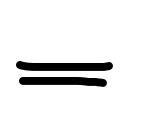eqv: (16, 61, 113, 87)
